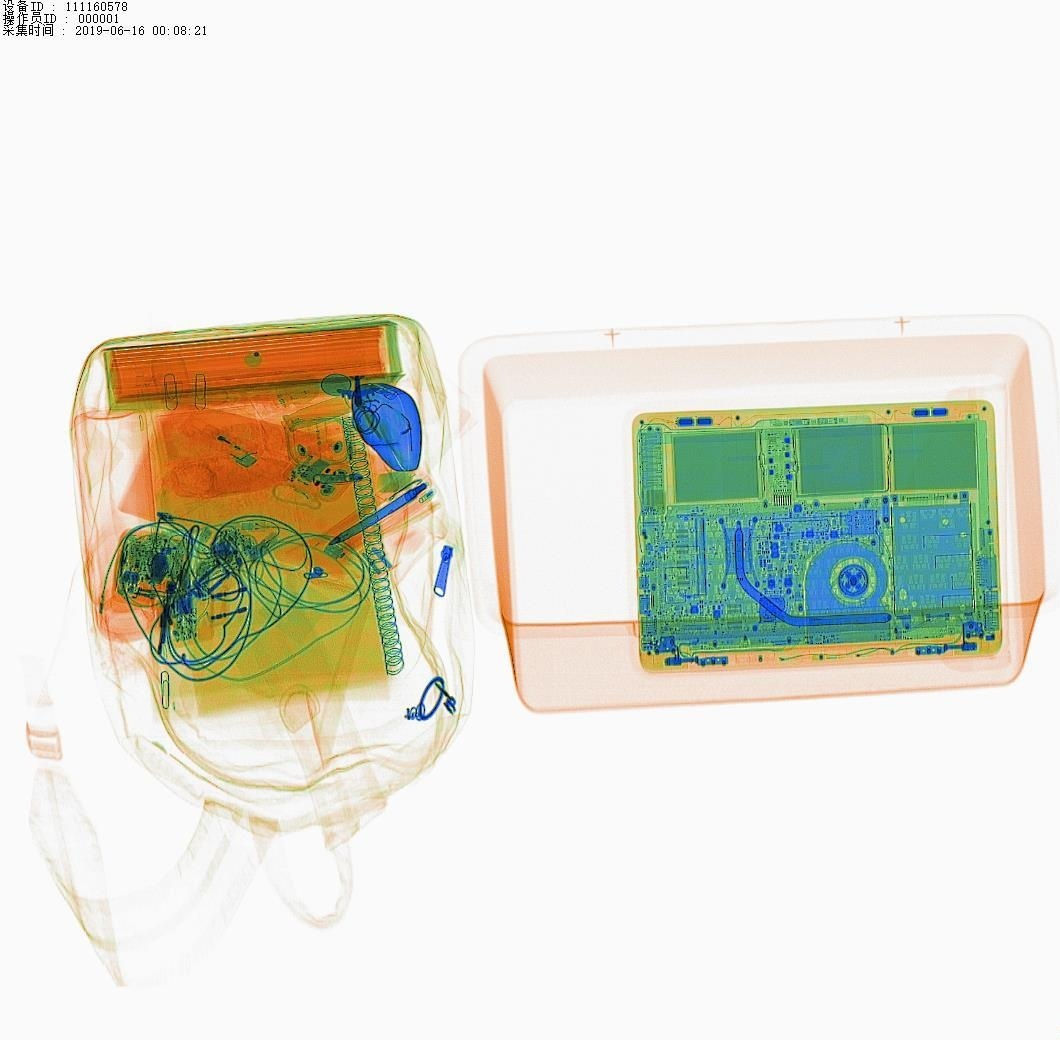NonmetallicFire: (160, 402, 279, 487)
